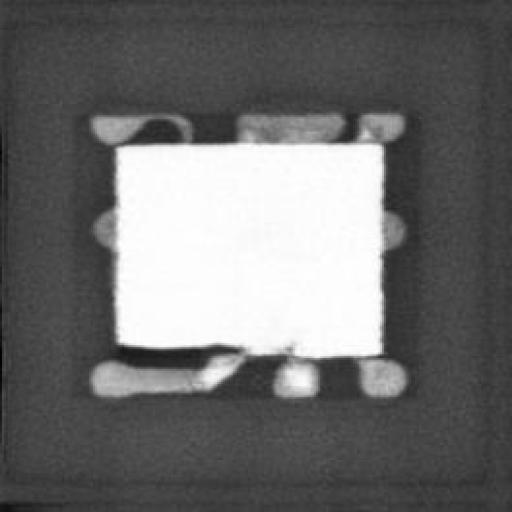DIE_BROKEN: (109, 338, 246, 358)
